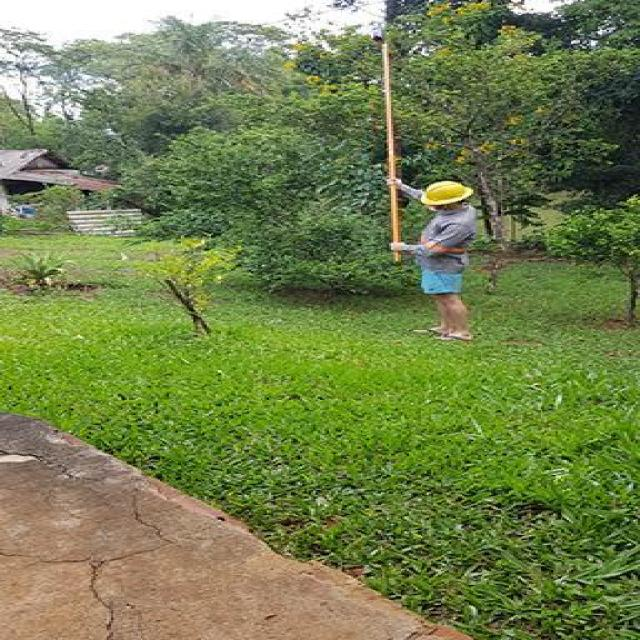hat: (420, 180, 474, 211)
